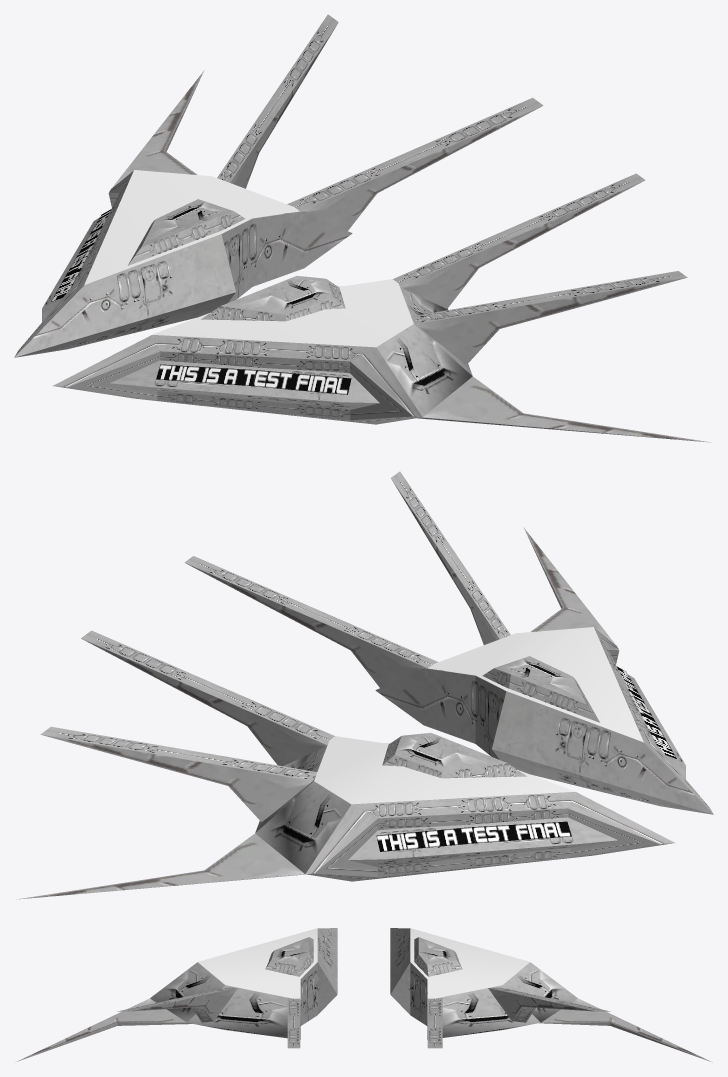
Rendered from spw23.obj.
3 views of the same model, one above another, from view 1: azimuth 30°, elevation 25°; view 2: azimuth 150°, elevation 25°; view 3: azimuth 270°, elevation 25° (orthographic). The views are drawn at different scales.
Visible parts, largest first — view 1: MESH020.001, DECAL010.007, DECAL020.004, NAMEDECAL0.008; view 2: MESH020.001, DECAL020.004, DECAL010.007, NAMEDECAL0.008; view 3: MESH020.001, DECAL010.007, DECAL020.004.
Part boxes in pixels (x1,y1,x2,y2): MESH020.001: (14,14,711,442); DECAL010.007: (84,170,299,285); DECAL020.004: (152,279,413,347); NAMEDECAL0.008: (51,209,351,394); MESH020.001: (16,471,713,899); DECAL020.004: (426,627,643,742); DECAL010.007: (314,736,575,804); NAMEDECAL0.008: (376,666,676,851); MESH020.001: (15,928,712,1062); DECAL010.007: (410,928,529,998); DECAL020.004: (198,928,317,999).
Bounding box in the file's own units: 89.75 × 19.85 × 142.
4 materials, 4 textured.
